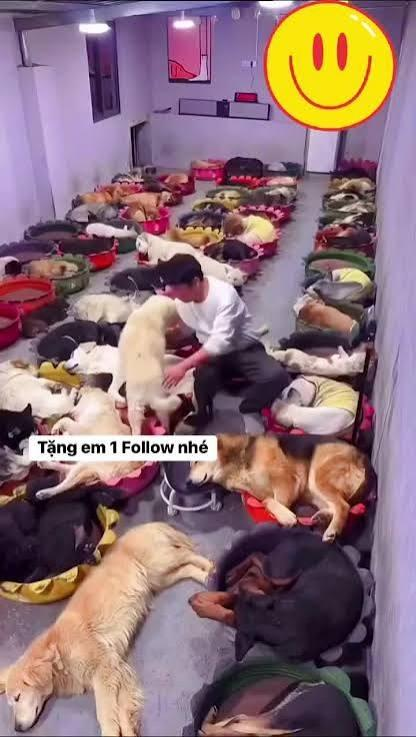adult_dog: (3, 519, 218, 736), (187, 536, 367, 667), (169, 428, 372, 544), (31, 389, 149, 501), (114, 294, 186, 435), (1, 488, 107, 580), (273, 375, 361, 437), (0, 364, 72, 433), (36, 319, 124, 363), (62, 343, 125, 394), (279, 344, 369, 379), (69, 290, 137, 330), (294, 301, 360, 341), (182, 255, 261, 288), (24, 237, 115, 259), (277, 330, 360, 353), (4, 259, 87, 281), (139, 239, 202, 266), (302, 279, 371, 303), (107, 268, 162, 295), (306, 257, 367, 281), (239, 212, 278, 243), (62, 202, 115, 224), (84, 218, 138, 239), (134, 233, 182, 256), (77, 184, 124, 207), (247, 174, 294, 196), (223, 240, 264, 264), (328, 177, 377, 197), (230, 156, 270, 180), (121, 191, 171, 210), (317, 232, 372, 249), (324, 208, 375, 226), (118, 202, 160, 223), (335, 160, 377, 181), (207, 216, 245, 239), (209, 185, 247, 208), (328, 195, 375, 213), (181, 214, 223, 232), (136, 175, 176, 193), (322, 223, 371, 237), (189, 199, 225, 215), (261, 159, 301, 172), (160, 173, 190, 188)
non-dog: (141, 250, 298, 433)
